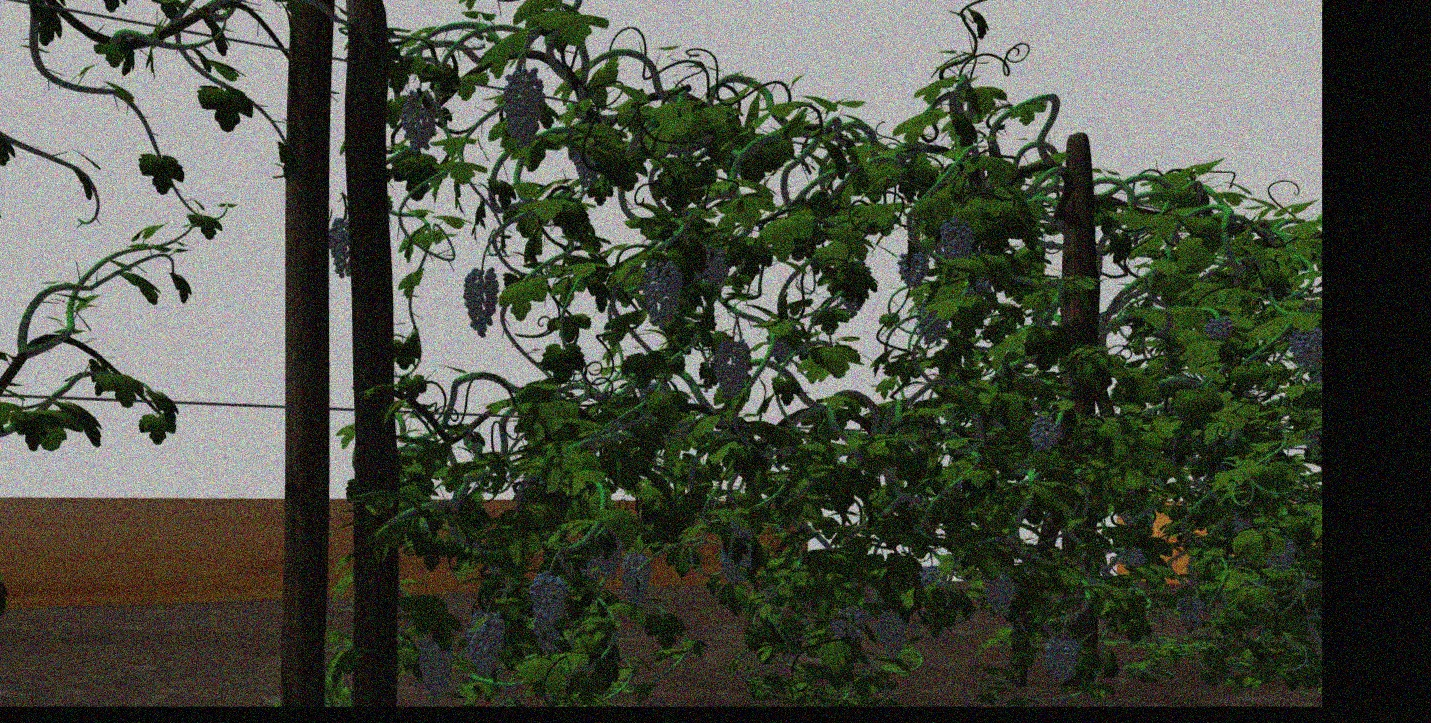grape: (502, 65, 545, 143), (462, 265, 502, 335), (415, 631, 455, 700), (644, 260, 681, 327), (398, 91, 436, 155), (467, 613, 504, 678), (715, 338, 753, 397), (718, 523, 753, 587), (531, 573, 569, 630), (1042, 635, 1083, 686), (875, 609, 906, 663), (621, 555, 653, 606), (938, 216, 974, 260), (982, 571, 1017, 616), (327, 218, 353, 277), (831, 602, 868, 640), (896, 247, 932, 285), (1026, 418, 1064, 453), (1289, 331, 1319, 374), (1177, 591, 1206, 634), (917, 305, 947, 344), (1204, 313, 1234, 340), (1120, 545, 1146, 567)
